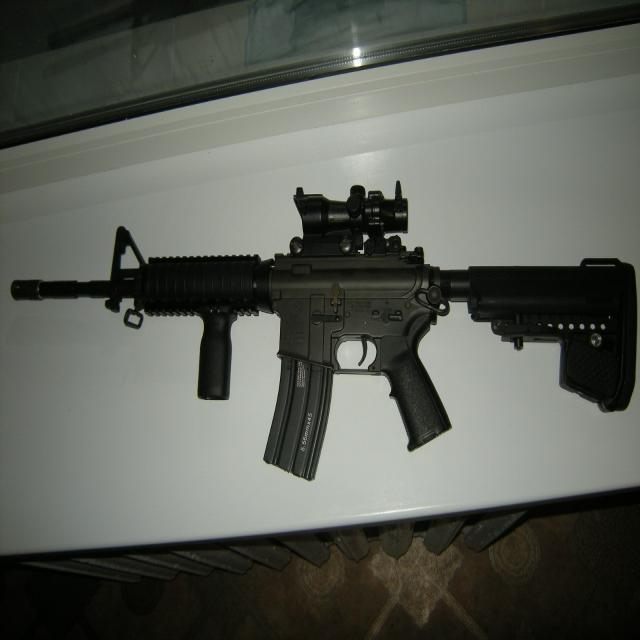firearm: (11, 182, 638, 484)
